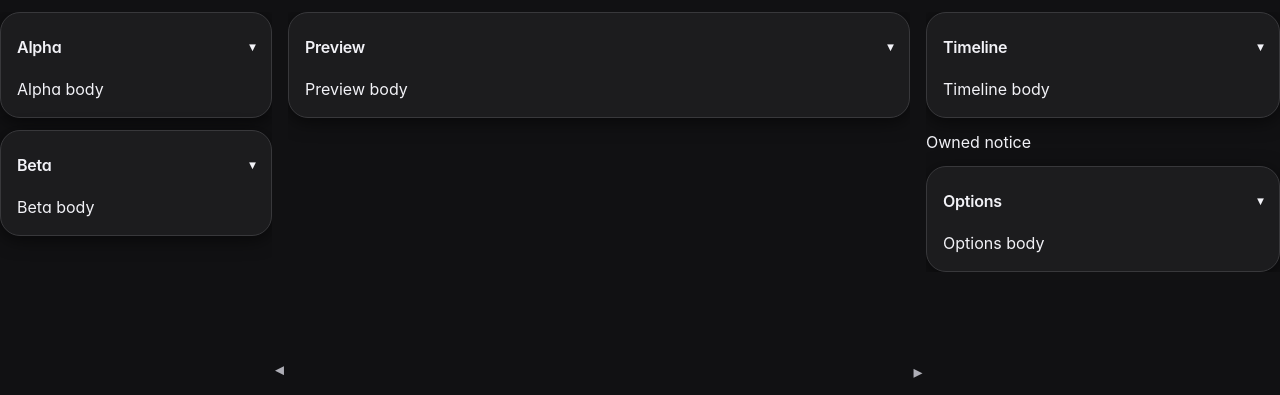
Test: customizable layouts › keeps card collapse and expand controls available while the layout is locked
Click the button with aria-label "Collapse Alpha" at (136, 47), box [17,29,255,65]
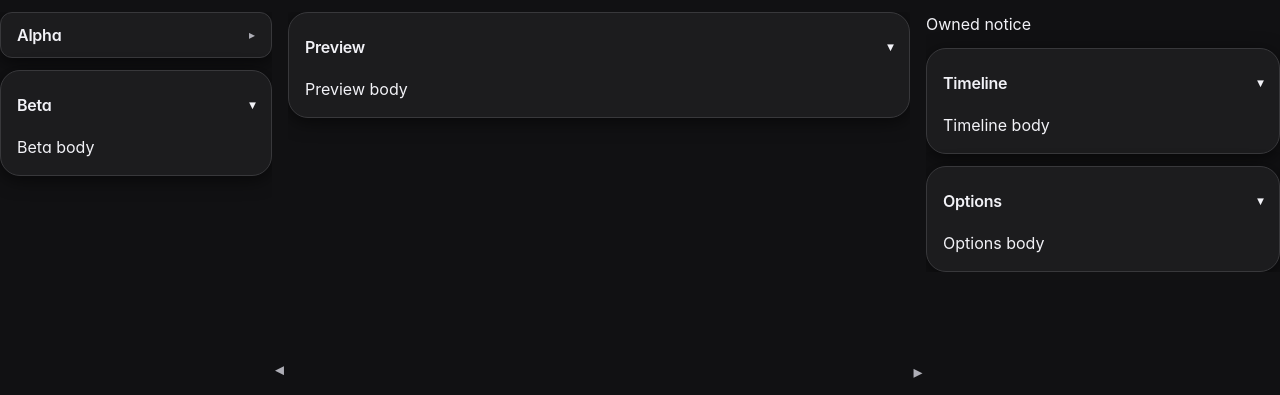
Result: the text "Alpha body" is gone
Click the button "Alpha ▸" at (136, 35), box [17,17,255,53]
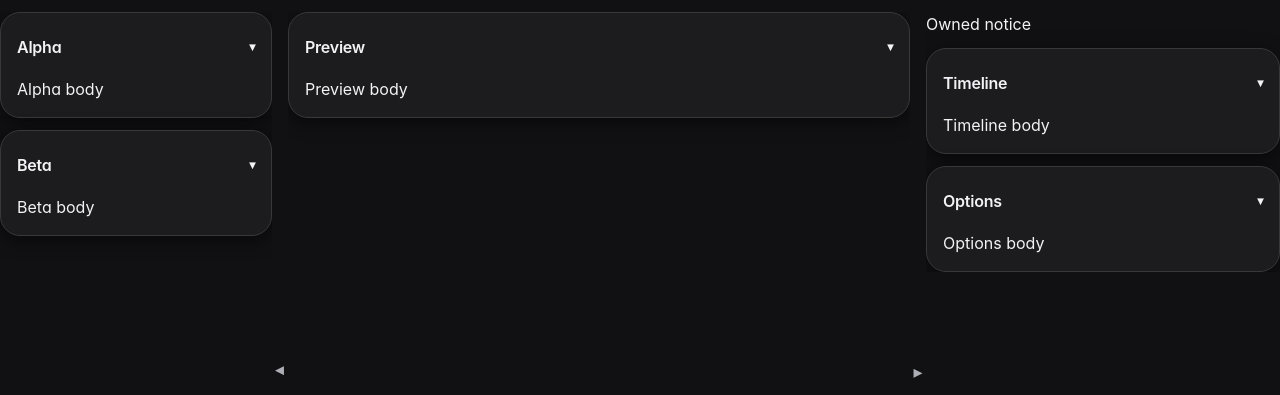
Result: the text "Alpha body" is shown at [17,79,104,99]
Result: the heading "Alpha ▾" is shown at [17,29,255,65]
